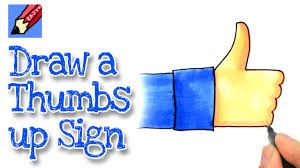thumbs_up: (132, 24, 285, 132)
